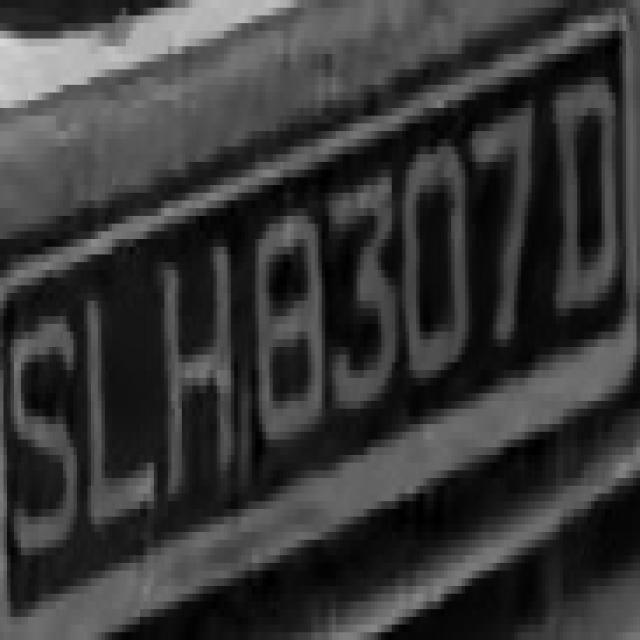0: (395, 108, 472, 401)
3: (318, 170, 395, 424)
7: (454, 85, 546, 385)
8: (248, 208, 339, 463)
D: (549, 69, 626, 324)
H: (161, 216, 241, 524)
L: (70, 255, 161, 548)
S: (7, 286, 77, 578)
